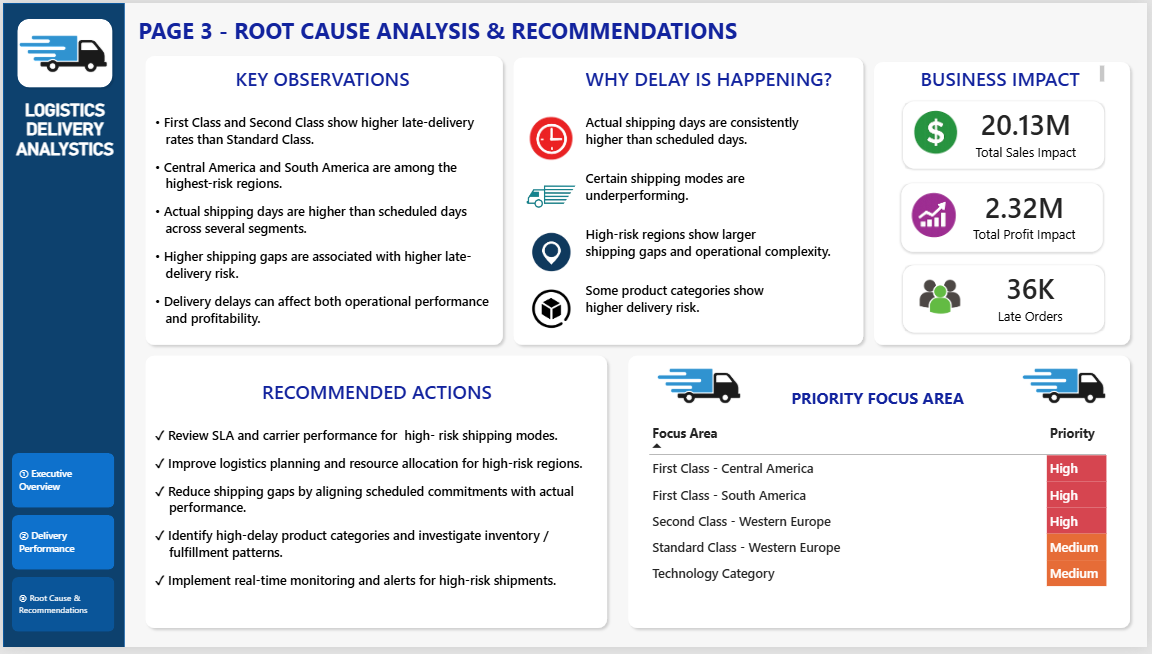

Layout of this report page (visuals, bound fields, positions):
{"tool":"powerbi","page":{"name":"③ Root Cause & Recommendations","canvas":[1920,1080],"ordinal":2},"visuals":[{"type":"shape","box":[0,0,204.3,1440],"z":0},{"type":"textbox","box":[226.7,20,1010,70],"z":2000},{"type":"shape","box":[230,80,617.5,502.5],"z":3000},{"type":"textbox","box":[255,105,562.5,475],"z":4000},{"type":"shape","box":[847.5,82.5,605,500],"z":5000},{"type":"textbox","box":[977.5,105,447.5,497.5],"z":6000},{"type":"image","box":[872.5,187.5,94,78],"z":7000},{"type":"image","box":[876.7,283.7,85.6,77.8],"z":8000},{"type":"image","box":[876.7,383.4,85.6,72.2],"z":9000},{"type":"image","box":[876.7,478.4,85.6,72.2],"z":10000},{"type":"shape","box":[1452.5,90,447.5,492.5],"z":11000},{"type":"textbox","box":[1507.5,105,340,52],"z":12000},{"type":"cardVisual","fields":{"Data":["public logistic.Late Sale"]},"box":[1510,165,337.5,112.5],"z":13000},{"type":"cardVisual","fields":{"Data":["public logistic.Late Profit"]},"box":[1507.5,302.5,337.5,115],"z":14000},{"type":"cardVisual","fields":{"Data":["public logistic.Late Orders"]},"box":[1510,440,337.5,112.5],"z":15000},{"type":"shape","box":[230,582.5,792.5,475],"z":16000},{"type":"textbox","box":[255,630,745,405],"z":17000},{"type":"shape","box":[1040,582.5,860,475],"z":18000},{"type":"tableEx","title":"PRIORITY FOCUS AREA","fields":{"Values":["Table.Focus Area","Table.Priority"]},"box":[1067.5,630,800,405],"z":19000},{"type":"image","box":[1697.5,602.5,170,75],"z":20000},{"type":"image","box":[1085,602.5,170,75],"z":21000},{"type":"pageNavigator","box":[15,755,172.5,302.5],"z":21001},{"type":"shape","box":[17.1,20,172.9,128.6],"z":21002},{"type":"textbox","box":[17.1,161.4,172.9,101.4],"z":21003},{"type":"image","box":[22.9,5.7,161.4,155.7],"z":21004}]}

Visuals, with their boxes in screenshot pixels (x1, y1, x2, y2), scaled from the page's 1920x1080 canvas onto the 1152x654 screenshot:
shape: locate(0, 0, 123, 653)
textbox: locate(136, 12, 742, 54)
shape: locate(138, 48, 508, 353)
textbox: locate(153, 64, 490, 351)
shape: locate(508, 50, 872, 353)
textbox: locate(586, 64, 855, 365)
image: locate(524, 114, 580, 161)
image: locate(526, 172, 577, 219)
image: locate(526, 232, 577, 276)
image: locate(526, 290, 577, 333)
shape: locate(872, 54, 1140, 353)
textbox: locate(904, 64, 1108, 95)
cardVisual - public logistic.Late Sale: locate(906, 100, 1108, 168)
cardVisual - public logistic.Late Profit: locate(904, 183, 1107, 253)
cardVisual - public logistic.Late Orders: locate(906, 266, 1108, 335)
shape: locate(138, 353, 614, 640)
textbox: locate(153, 382, 600, 627)
shape: locate(624, 353, 1140, 640)
"PRIORITY FOCUS AREA" tableEx: locate(640, 382, 1120, 627)
image: locate(1018, 365, 1120, 410)
image: locate(651, 365, 753, 410)
pageNavigator: locate(9, 457, 112, 640)
shape: locate(10, 12, 114, 90)
textbox: locate(10, 98, 114, 159)
image: locate(14, 3, 111, 98)
